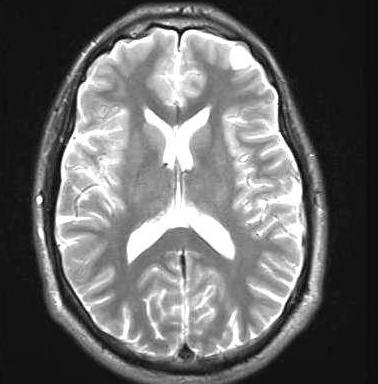Normal_Brain: (1, 1, 378, 384)
